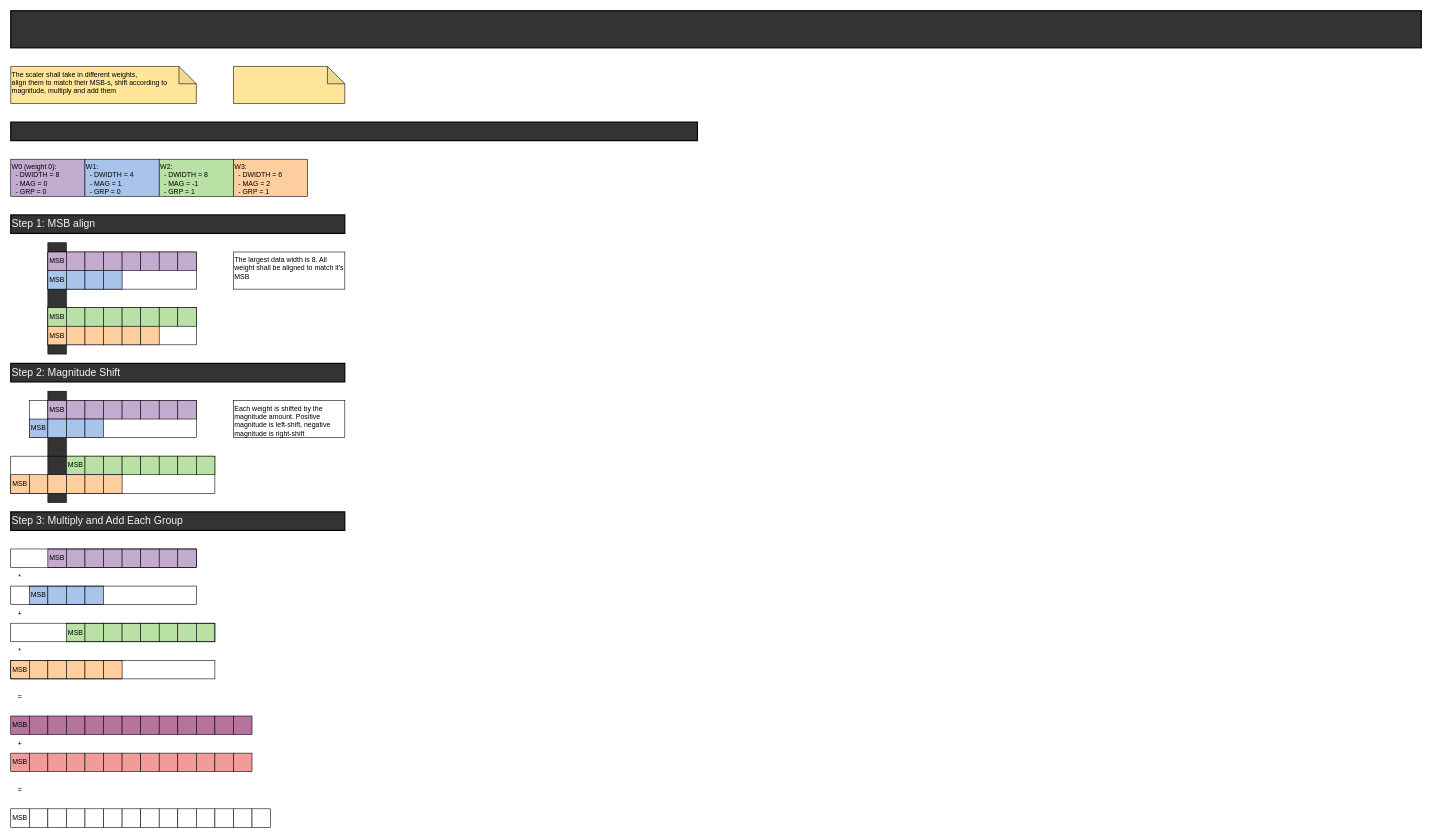
This 1431x838 diagram has some shape labels left out. Here are the shapes that lost their labels. From the top down, the centre of each, then its label:
the point at 716,29: Scaler
the point at 289,85: Parameters of a single weight: - Width - Magnitude - Multiply Group
the point at 354,131: Example
